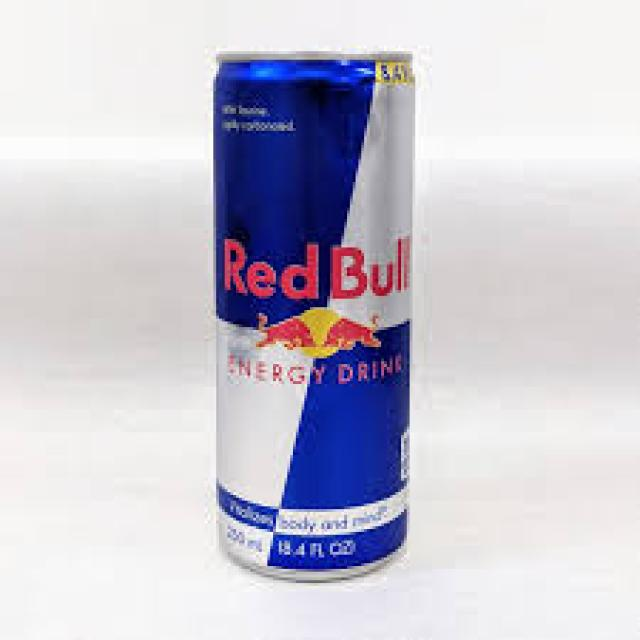red-bull: (213, 37, 416, 579)
